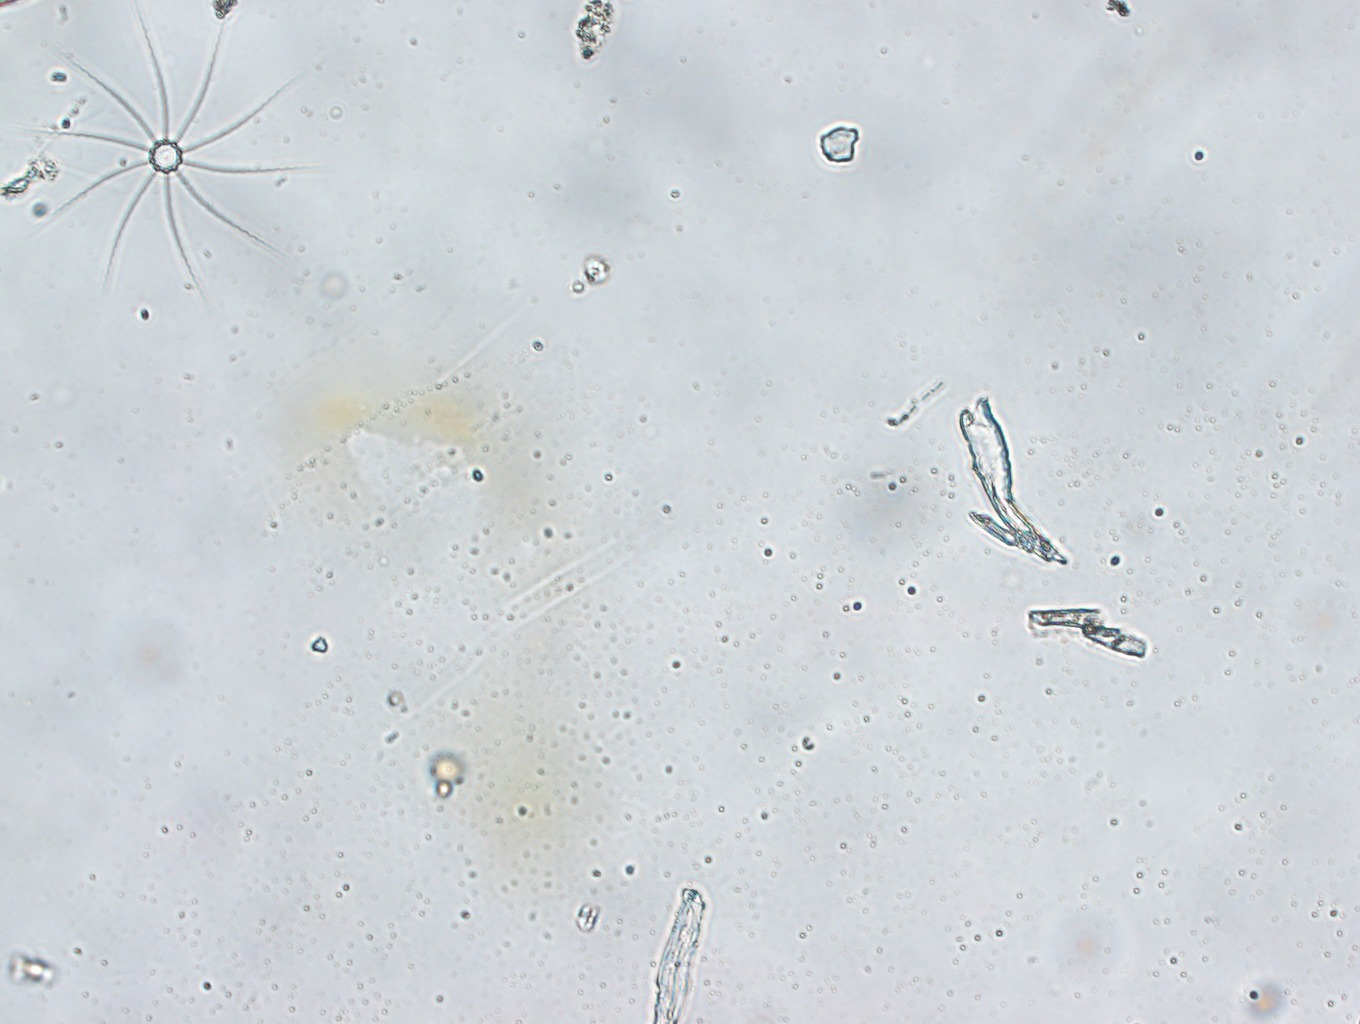bacteriastrum: (20, 1, 321, 305)
